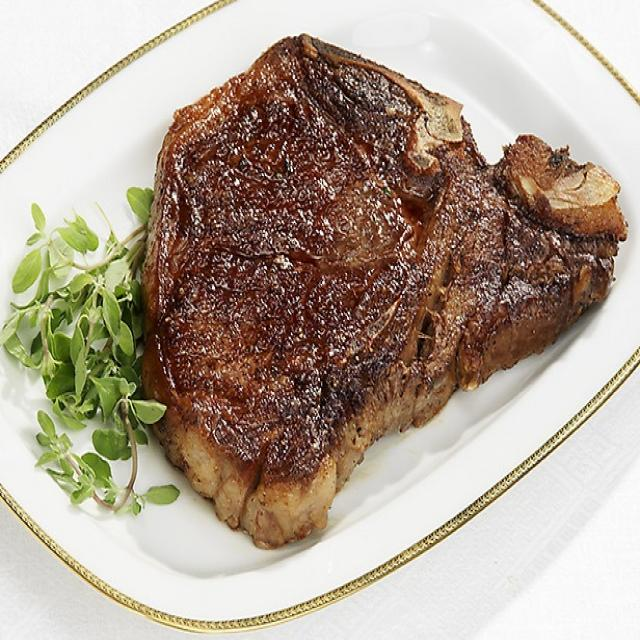beef steak: (142, 35, 624, 546)
